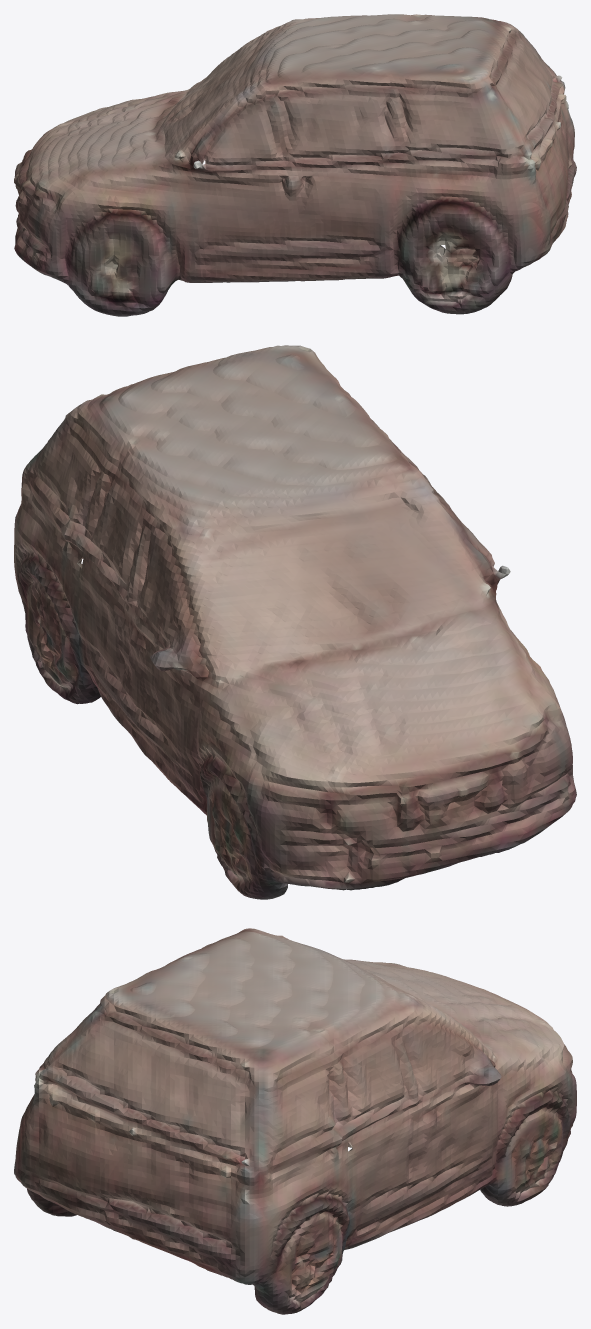
File: van.glb
The picture shows the model from 3 angles, top to bottom: view 1: azimuth 30°, elevation 25°; view 2: azimuth 150°, elevation 25°; view 3: azimuth 270°, elevation 25°; orthographic projection. The views are drawn at different scales.
Parts seen in each view (by area): view 1: van; view 2: van; view 3: van.
Part boxes in pixels (x1=…): van: x1=14, y1=14, x2=576, y2=316; van: x1=14, y1=345, x2=576, y2=899; van: x1=14, y1=928, x2=576, y2=1314.
Bounding box in the file's own units: 0.9116 × 0.4628 × 0.8204.
